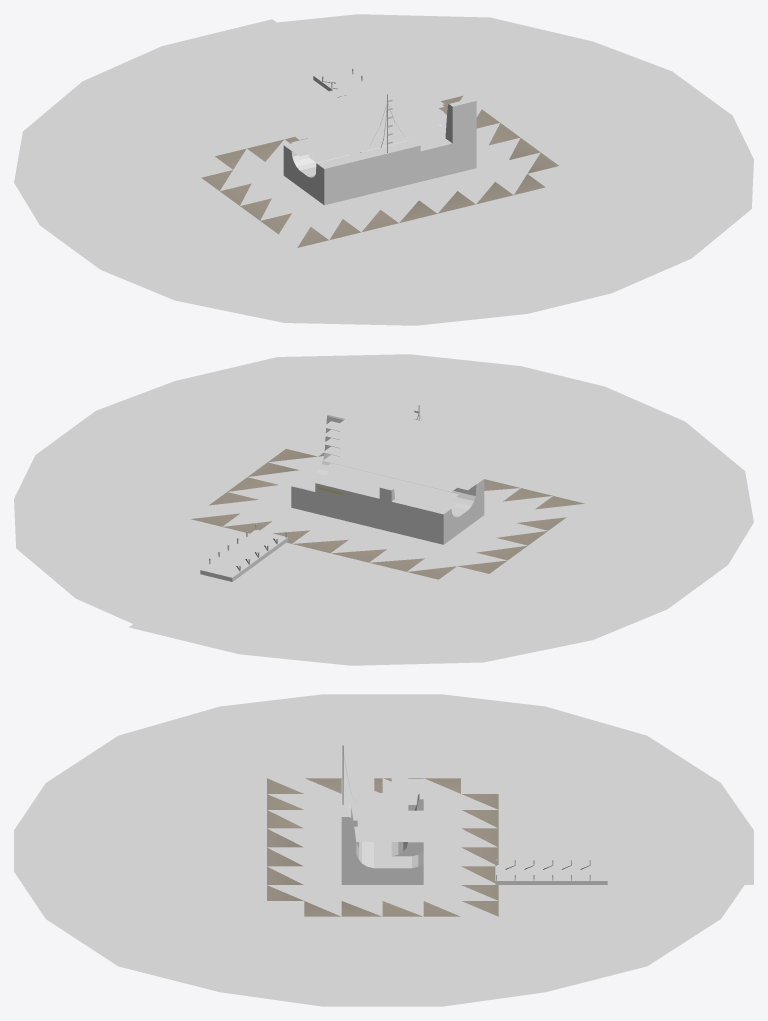
The picture shows the model from 3 angles, top to bottom: view 1: azimuth 30°, elevation 25°; view 2: azimuth 150°, elevation 25°; view 3: azimuth 270°, elevation 25°; orthographic projection.
Visible parts, largest first — view 1: SKB2_Col_Floor, SKB2_Col_Ride, SKB2_Mesh_00, SKB2_Col_Pipe, SKB2_Col_Wall; view 2: SKB2_Col_Floor, SKB2_Mesh_00, SKB2_Col_Ride, SKB2_Col_Pipe, SKB2_Col_Wall; view 3: SKB2_Col_Floor, SKB2_Mesh_00, SKB2_Col_Pipe, SKB2_Col_Ride, SKB2_Col_Wall.
Boxes of the visible parts, bbox=[...] form: SKB2_Col_Floor: bbox=[14, 14, 753, 325]; SKB2_Col_Ride: bbox=[283, 101, 476, 205]; SKB2_Mesh_00: bbox=[201, 81, 558, 247]; SKB2_Col_Pipe: bbox=[284, 126, 451, 177]; SKB2_Col_Wall: bbox=[291, 69, 405, 193]; SKB2_Col_Floor: bbox=[14, 354, 753, 665]; SKB2_Mesh_00: bbox=[190, 449, 584, 579]; SKB2_Col_Ride: bbox=[291, 479, 484, 544]; SKB2_Col_Pipe: bbox=[300, 453, 483, 517]; SKB2_Col_Wall: bbox=[200, 405, 476, 581]; SKB2_Col_Floor: bbox=[14, 694, 753, 1006]; SKB2_Mesh_00: bbox=[267, 778, 589, 916]; SKB2_Col_Pipe: bbox=[341, 773, 423, 867]; SKB2_Col_Ride: bbox=[341, 799, 423, 884]; SKB2_Col_Wall: bbox=[342, 745, 607, 884].
Size of the model in its own units: 209 by 30.09 by 210.
